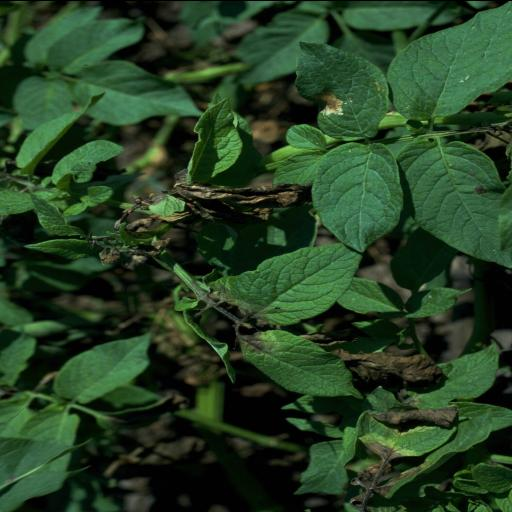Late Blight: (231, 326, 363, 398), (352, 403, 464, 465)
